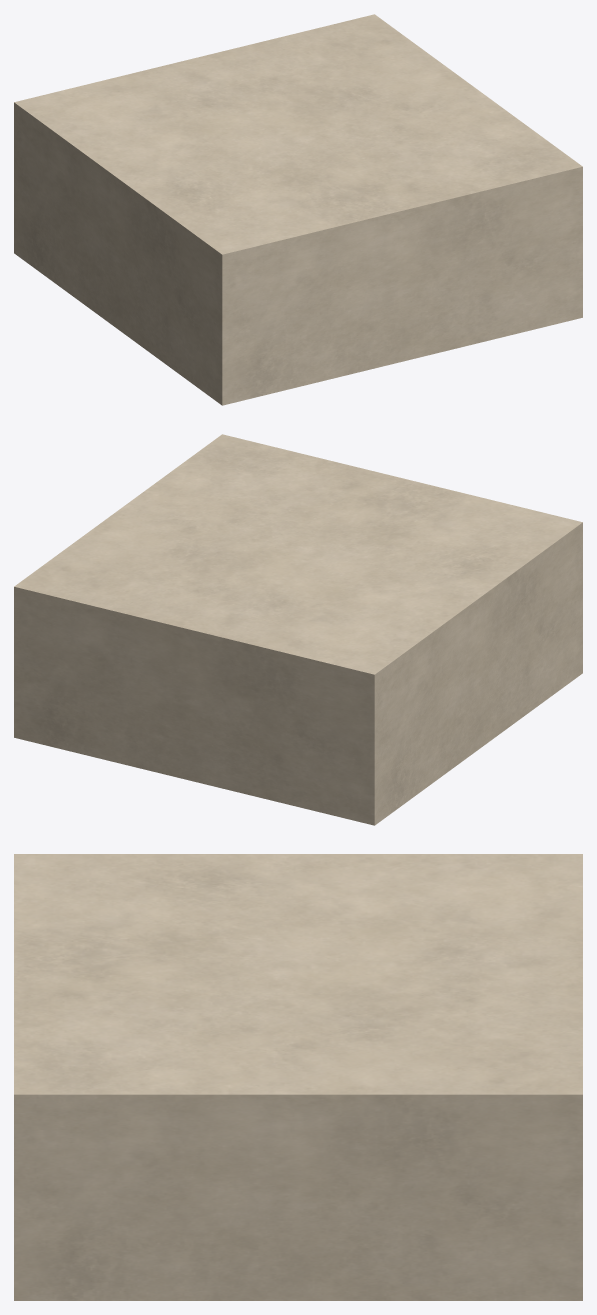
Rendered from ShiGaoMuJu_BuGuiZe.fbx.
The picture shows the model from 3 angles, top to bottom: view 1: azimuth 30°, elevation 25°; view 2: azimuth 150°, elevation 25°; view 3: azimuth 270°, elevation 25°; orthographic projection. The views are drawn at different scales.
Visible parts, largest first — view 1: ShiGaoMuJu_BuGuiZe; view 2: ShiGaoMuJu_BuGuiZe; view 3: ShiGaoMuJu_BuGuiZe.
Boxes of the visible parts, x1=… form: ShiGaoMuJu_BuGuiZe: x1=14, y1=14, x2=582, y2=405; ShiGaoMuJu_BuGuiZe: x1=14, y1=434, x2=582, y2=825; ShiGaoMuJu_BuGuiZe: x1=14, y1=854, x2=582, y2=1300.
Bounding box in the file's own units: 35 × 14 × 35.
1 material, 1 textured.
